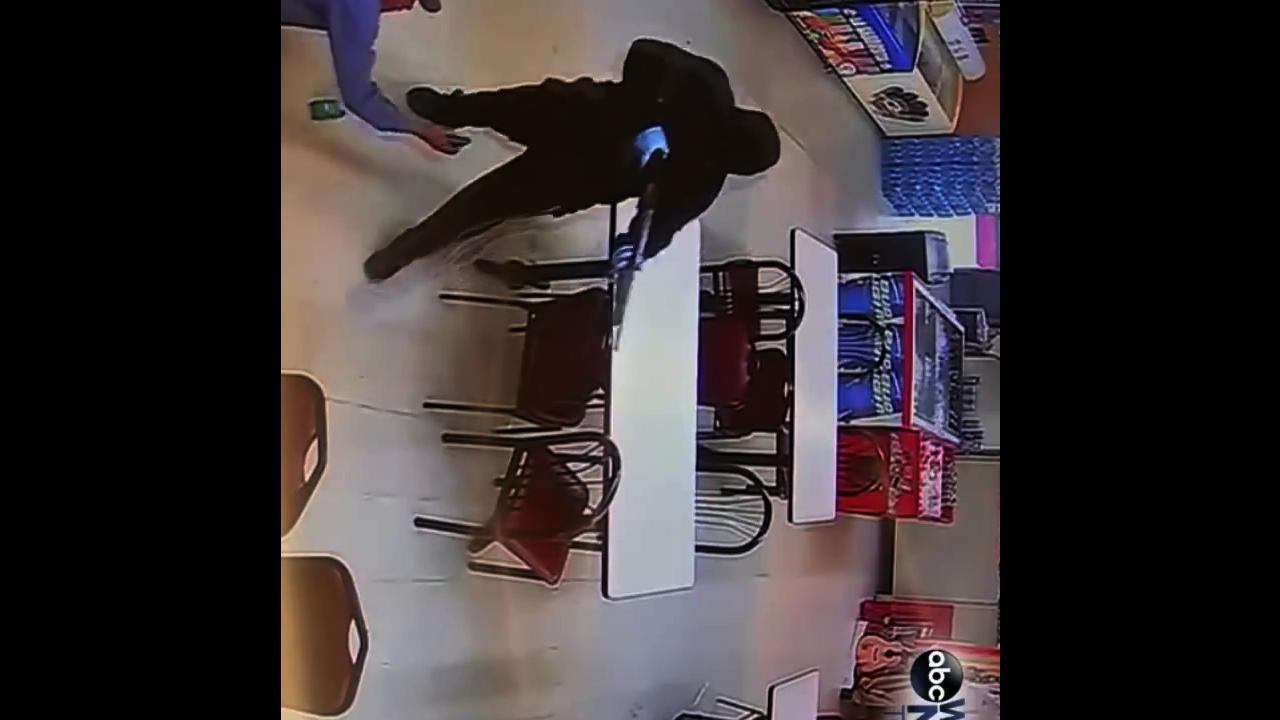gun: (583, 141, 680, 350)
